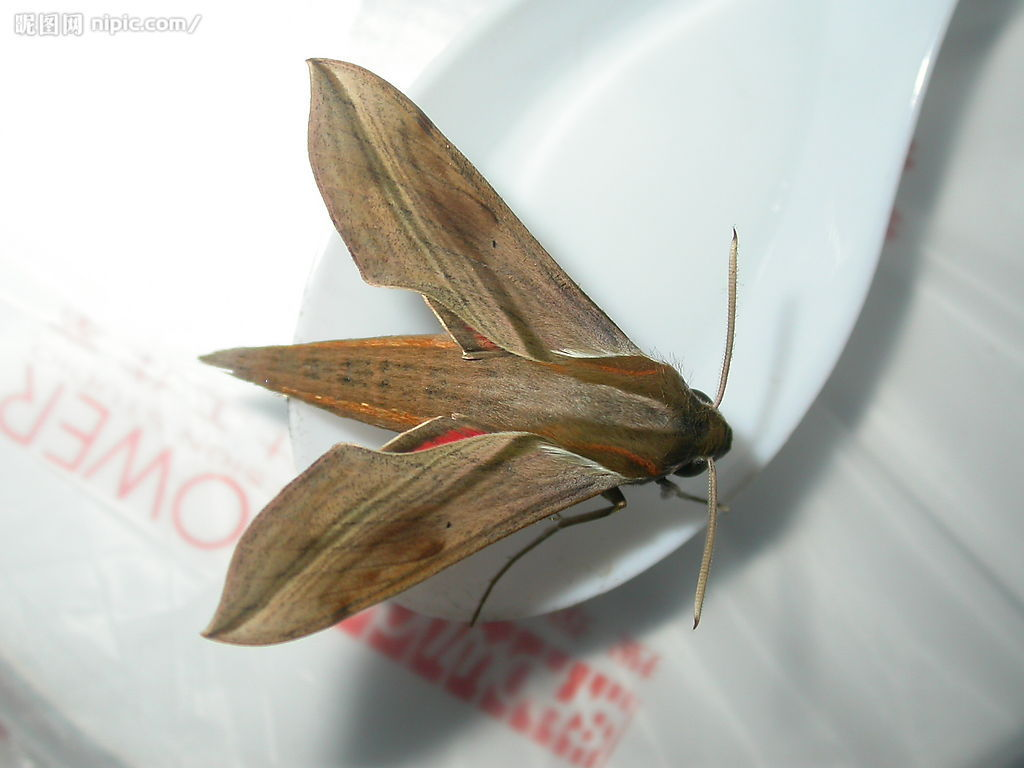feie: (204, 97, 770, 665)
